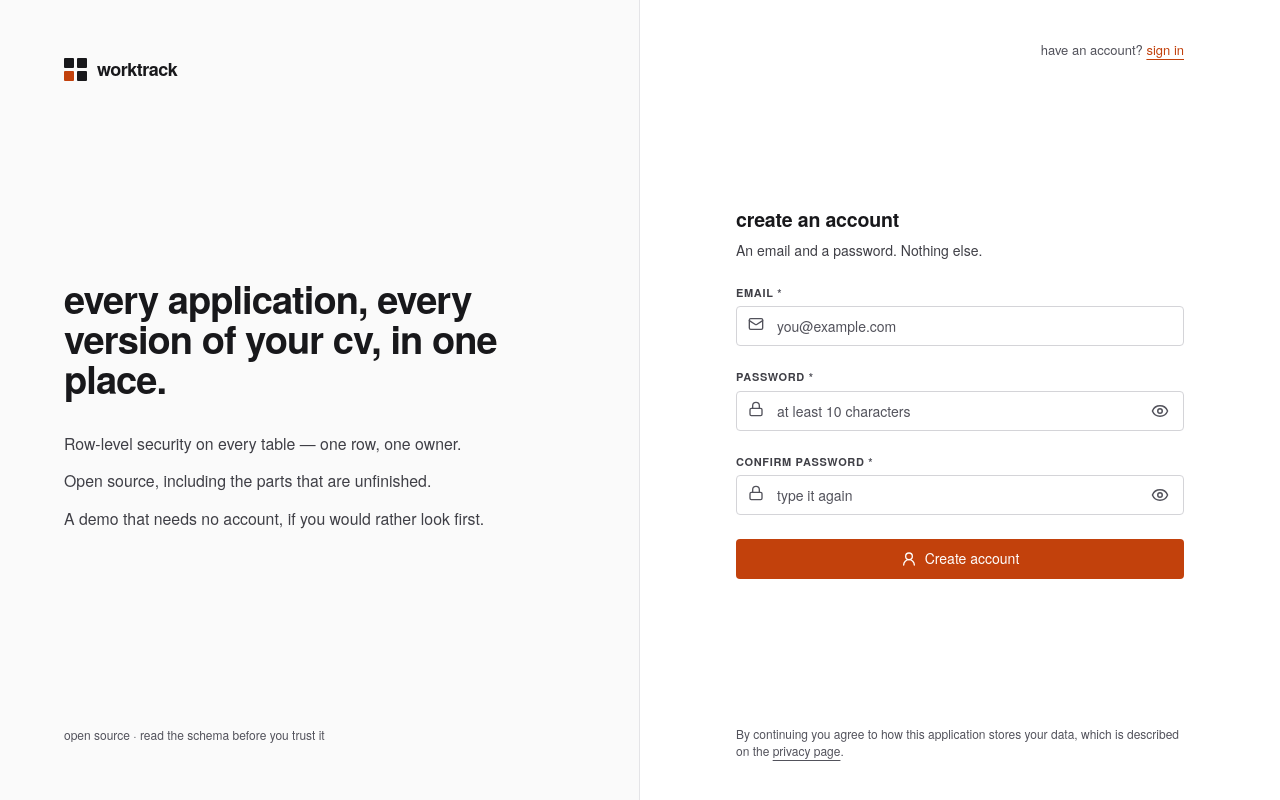
Test: AuthScreen in sign-up mode › refuses to submit when the two passwords disagree
The width and height of the screenshot is (1280, 800).
In the field labelled "Email *": {"x": 960, "y": 326} [736,306,1184,346], type "a@b.test"
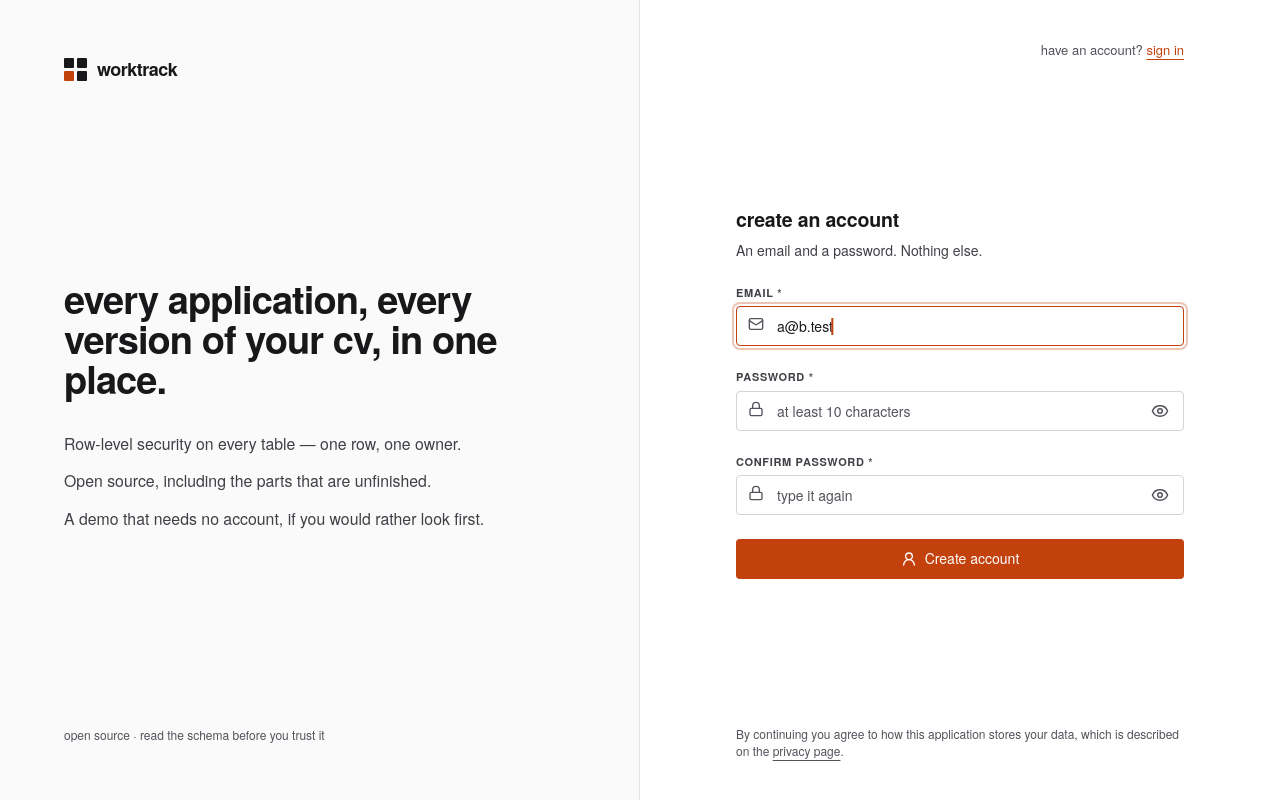
In the password field labelled "Password *": {"x": 960, "y": 411} [736,391,1184,431], type "hunter22"
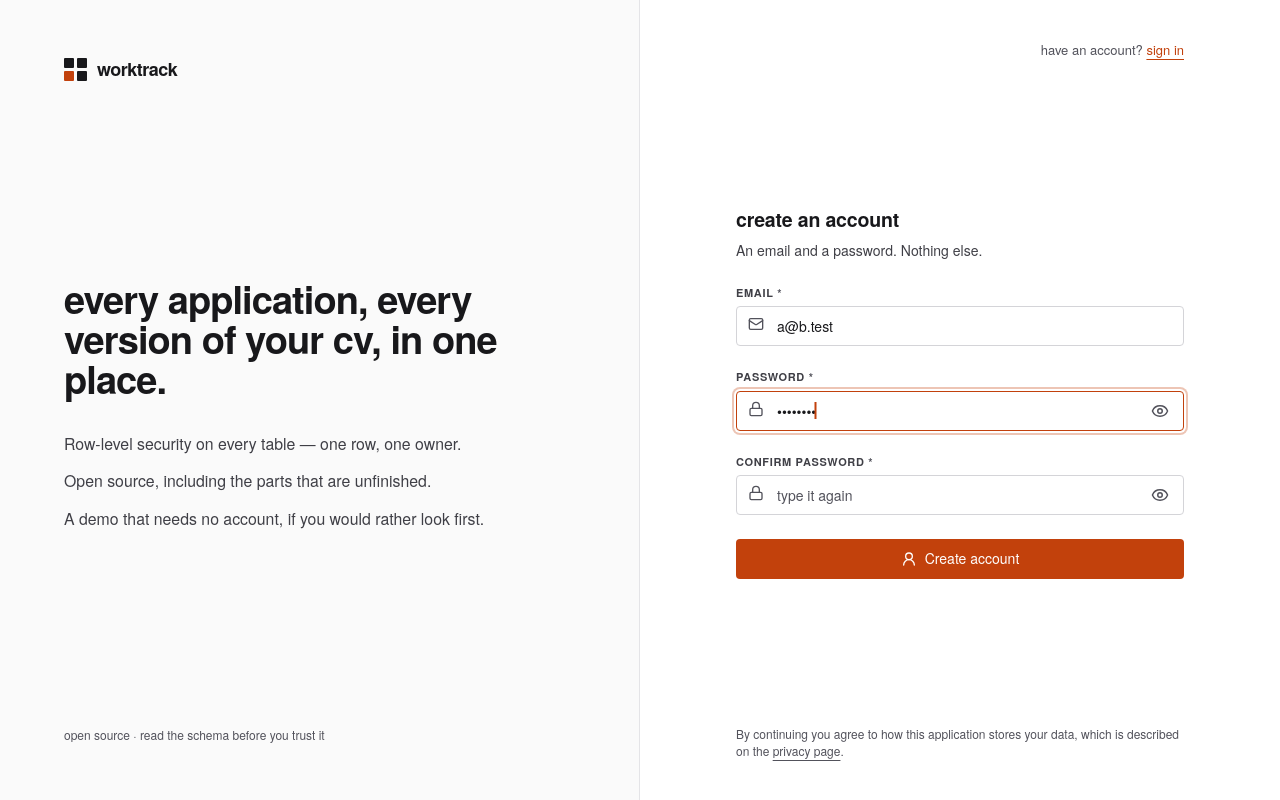
In the password field labelled "Confirm password *": {"x": 960, "y": 495} [736,475,1184,515], type "hunter23"
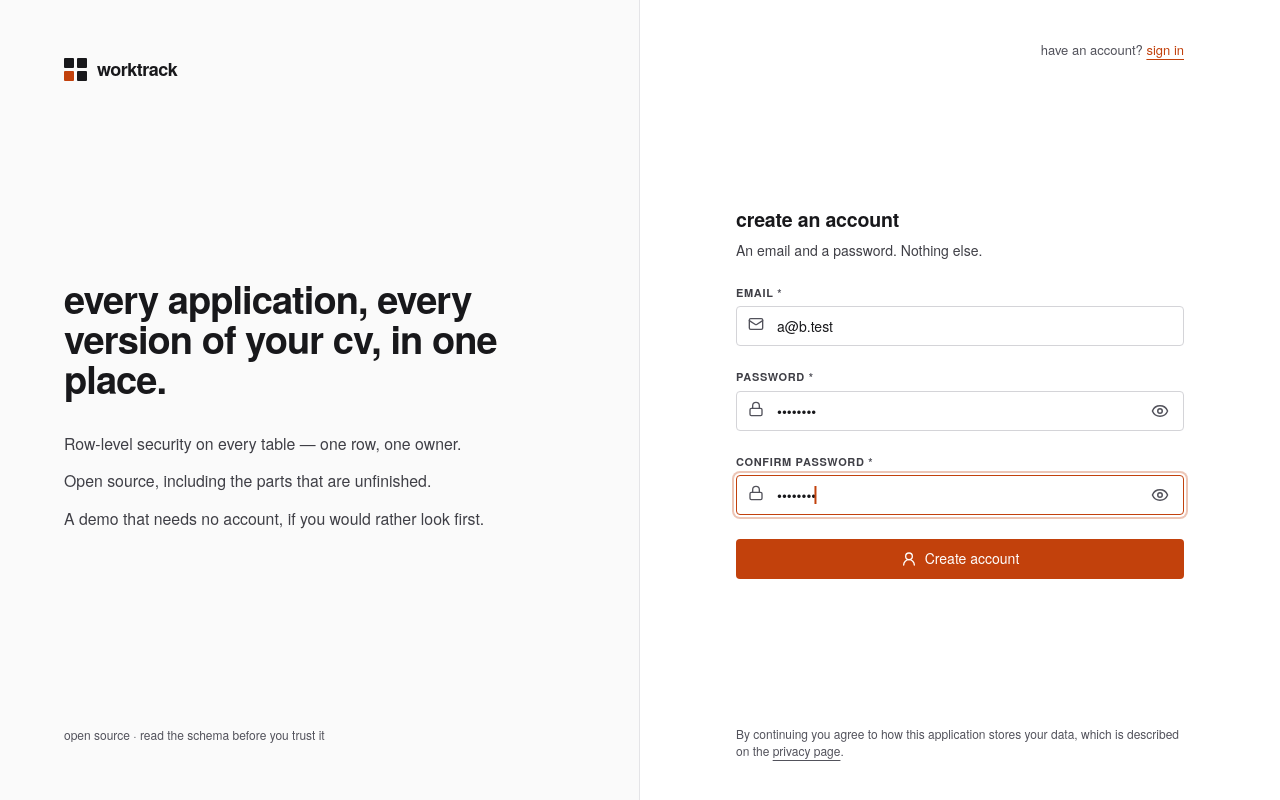
Click the button "Create account": {"x": 960, "y": 559} [736,539,1184,579]
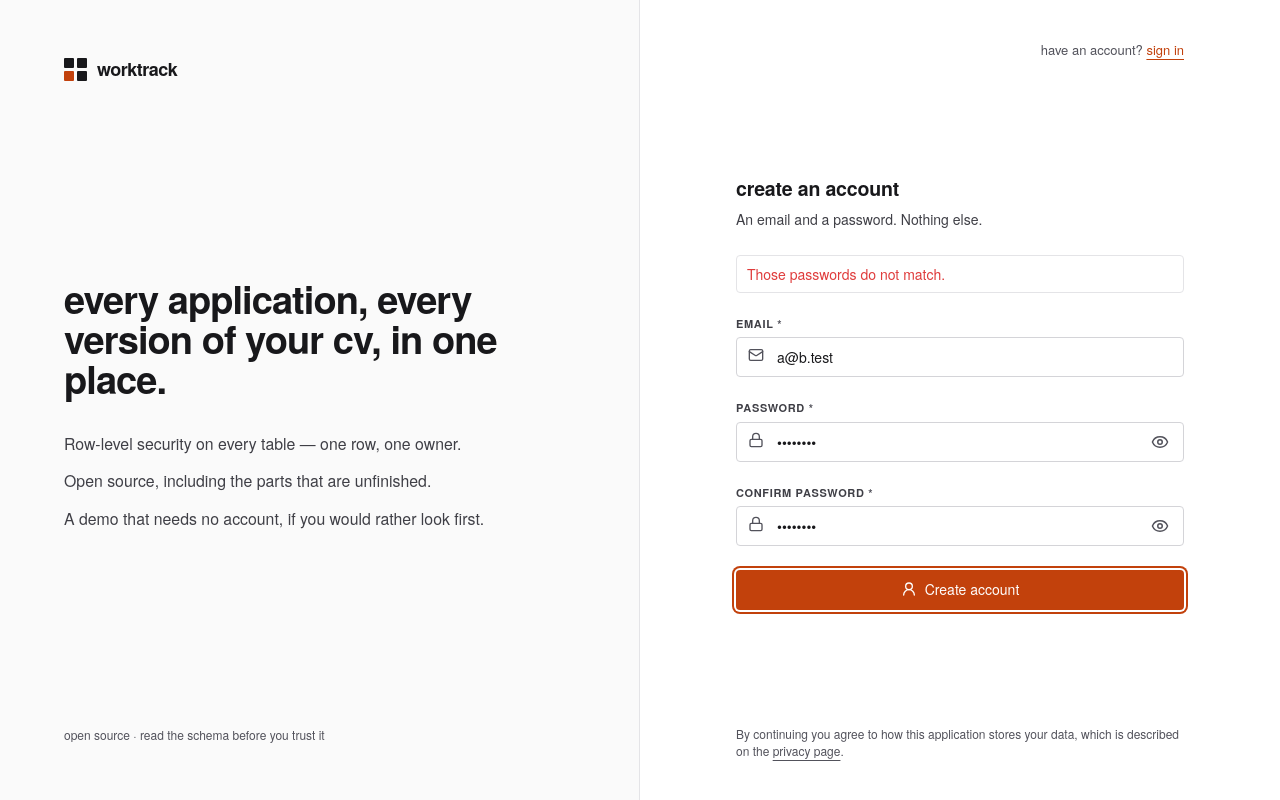
expect the text "Those passwords do not match." is shown: met, box [747,264,945,284]
